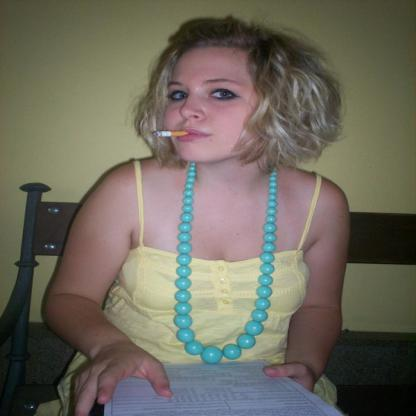smoking: (152, 131, 190, 136)
